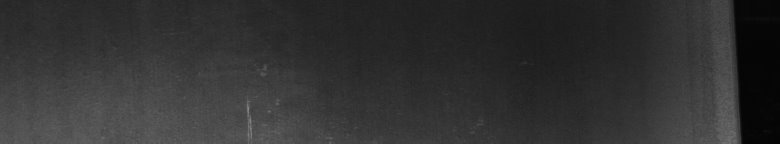ka: (238, 65, 356, 136)
